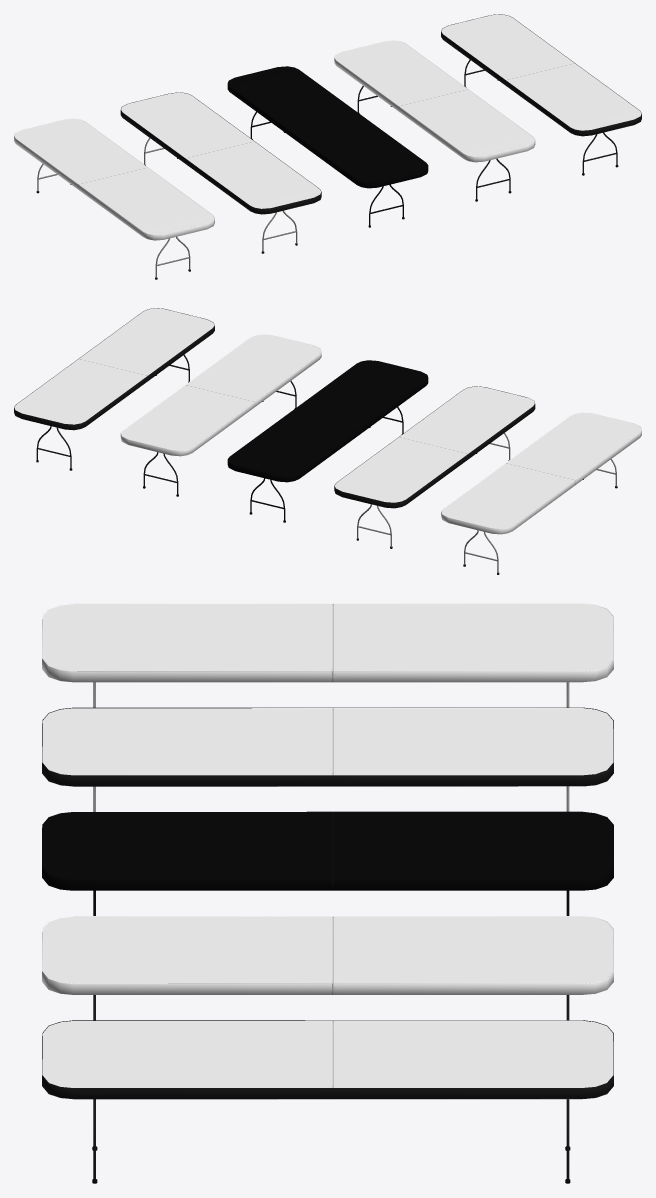
The model's file is SM_Folding_Table_Pack_JFG_1.fbx.
3 renders of one model, top to bottom at view 1: azimuth 30°, elevation 25°; view 2: azimuth 150°, elevation 25°; view 3: azimuth 270°, elevation 25°, orthographic. The views are drawn at different scales.
Visible parts, largest first — view 1: SM_Folding_Table_JFG_5, SM_Folding_Table_JFG_2, SM_Folding_Table_JFG_3, SM_Folding_Table_JFG_1, SM_Folding_Table_JFG_4; view 2: SM_Folding_Table_JFG_3, SM_Folding_Table_JFG_2, SM_Folding_Table_JFG_5, SM_Folding_Table_JFG_1, SM_Folding_Table_JFG_4; view 3: SM_Folding_Table_JFG_1, SM_Folding_Table_JFG_5, SM_Folding_Table_JFG_4, SM_Folding_Table_JFG_3, SM_Folding_Table_JFG_2.
Boxes of the visible parts, x1=… form: SM_Folding_Table_JFG_5: x1=14, y1=118, x2=214, y2=279; SM_Folding_Table_JFG_2: x1=334, y1=40, x2=535, y2=201; SM_Folding_Table_JFG_3: x1=227, y1=66, x2=428, y2=227; SM_Folding_Table_JFG_1: x1=441, y1=14, x2=641, y2=175; SM_Folding_Table_JFG_4: x1=120, y1=92, x2=321, y2=253; SM_Folding_Table_JFG_3: x1=227, y1=360, x2=428, y2=522; SM_Folding_Table_JFG_2: x1=120, y1=334, x2=321, y2=496; SM_Folding_Table_JFG_5: x1=441, y1=412, x2=641, y2=574; SM_Folding_Table_JFG_1: x1=14, y1=308, x2=214, y2=470; SM_Folding_Table_JFG_4: x1=334, y1=386, x2=535, y2=548; SM_Folding_Table_JFG_1: x1=42, y1=1020, x2=613, y2=1183; SM_Folding_Table_JFG_5: x1=42, y1=603, x2=613, y2=707; SM_Folding_Table_JFG_4: x1=42, y1=707, x2=613, y2=811; SM_Folding_Table_JFG_3: x1=42, y1=811, x2=613, y2=915; SM_Folding_Table_JFG_2: x1=42, y1=916, x2=613, y2=1020.
Size of the model in its own units: 931 by 100 by 464.
5 materials, 5 textured.
